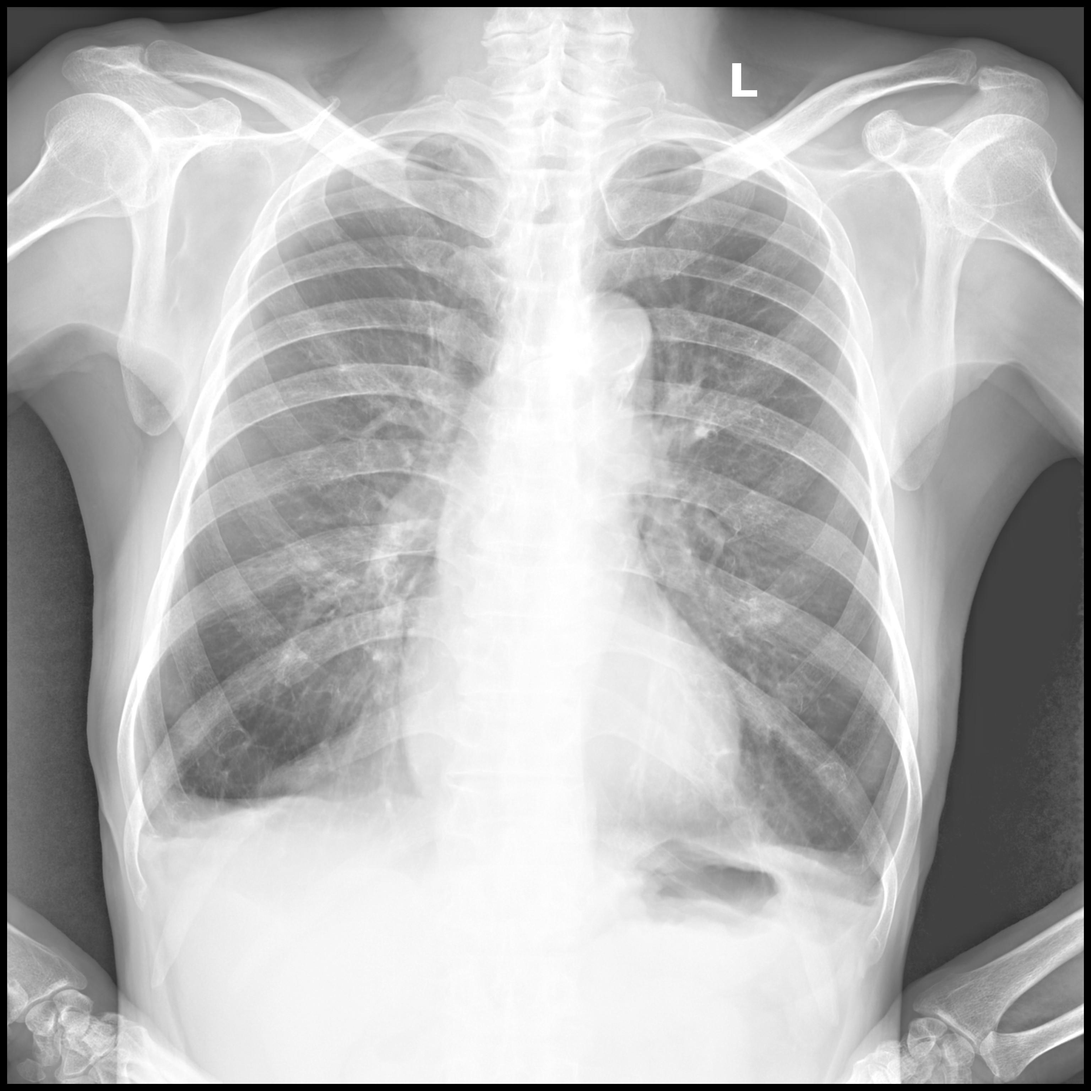Aortic enlargement: (555, 291, 652, 382)
Pleural thickening: (125, 749, 209, 895), (817, 831, 892, 930)
